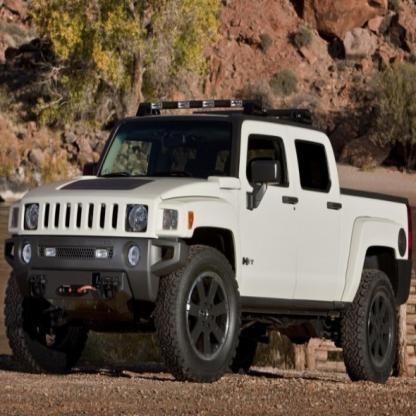Vehicle: (5, 98, 412, 386)
